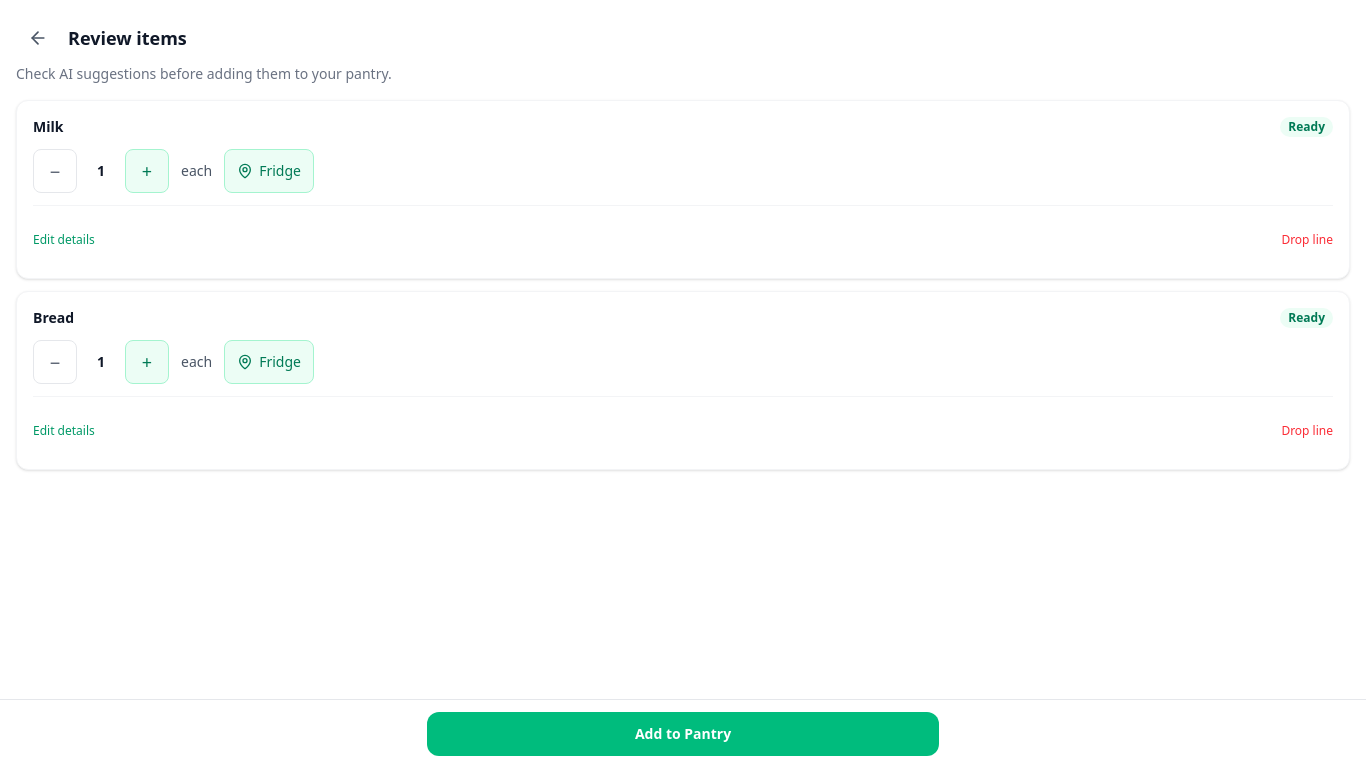
BatchReviewScreen › Drop line › removes the card when Drop line is clicked
This screenshot has width=1366, height=768.
Expected: the list item "Milk Ready − 1 + each Fridge Edit details Drop line" is shown, [16, 100, 1350, 279]
Click the 1st button "Drop line": click(1307, 240) [1281, 218, 1333, 262]
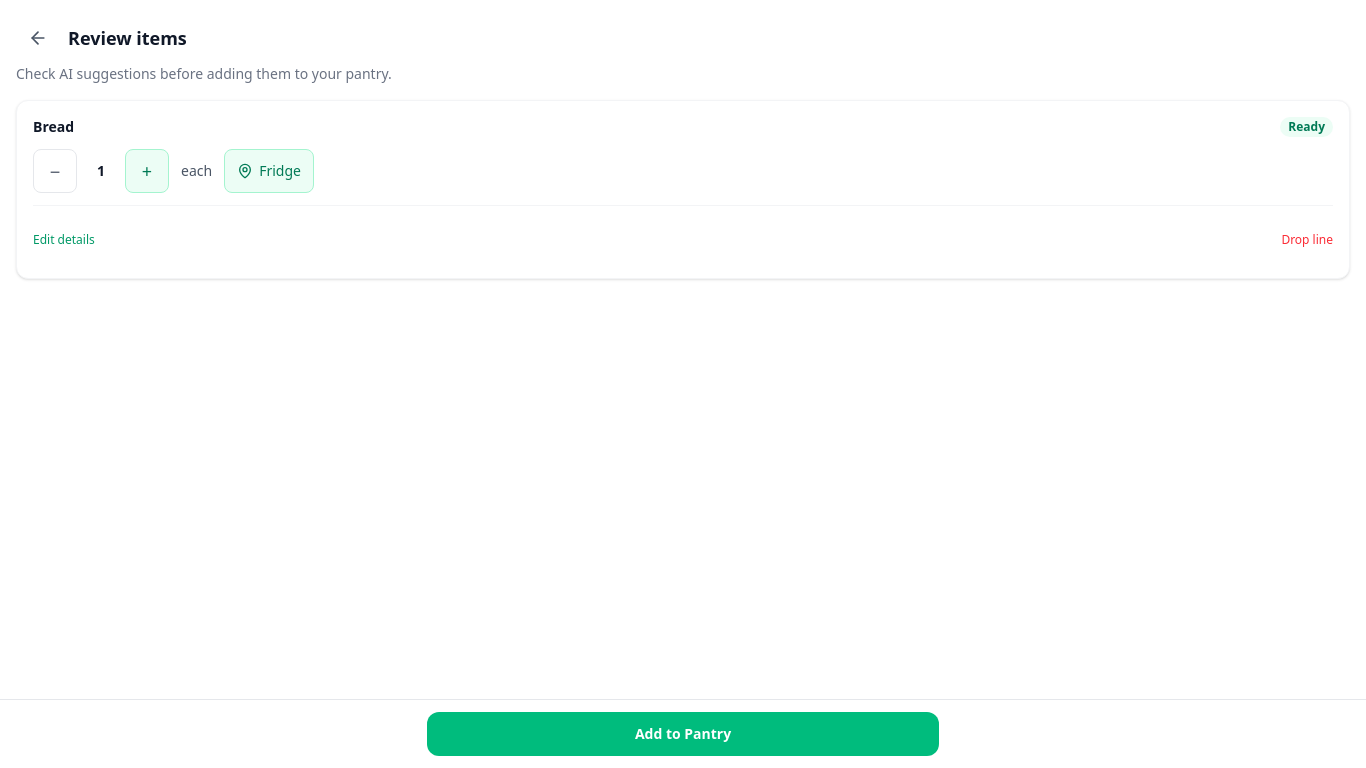
Expected: the text "Bread" is shown, [33, 117, 74, 136]
Result: the text "Milk" is gone
